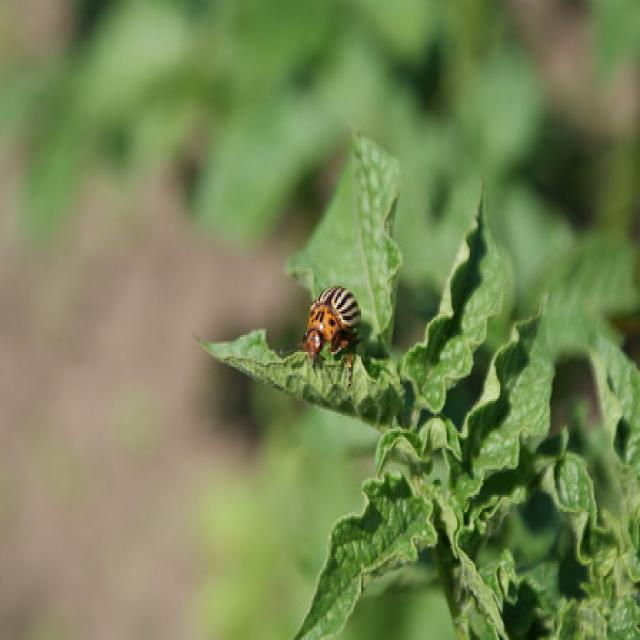ShuCaiHuaBanChong-Grown-: (302, 269, 359, 359)
